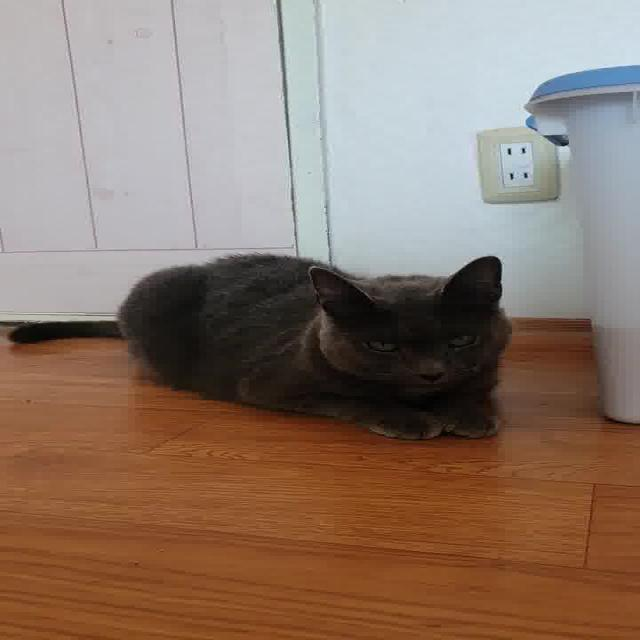cat: (5, 242, 534, 444)
